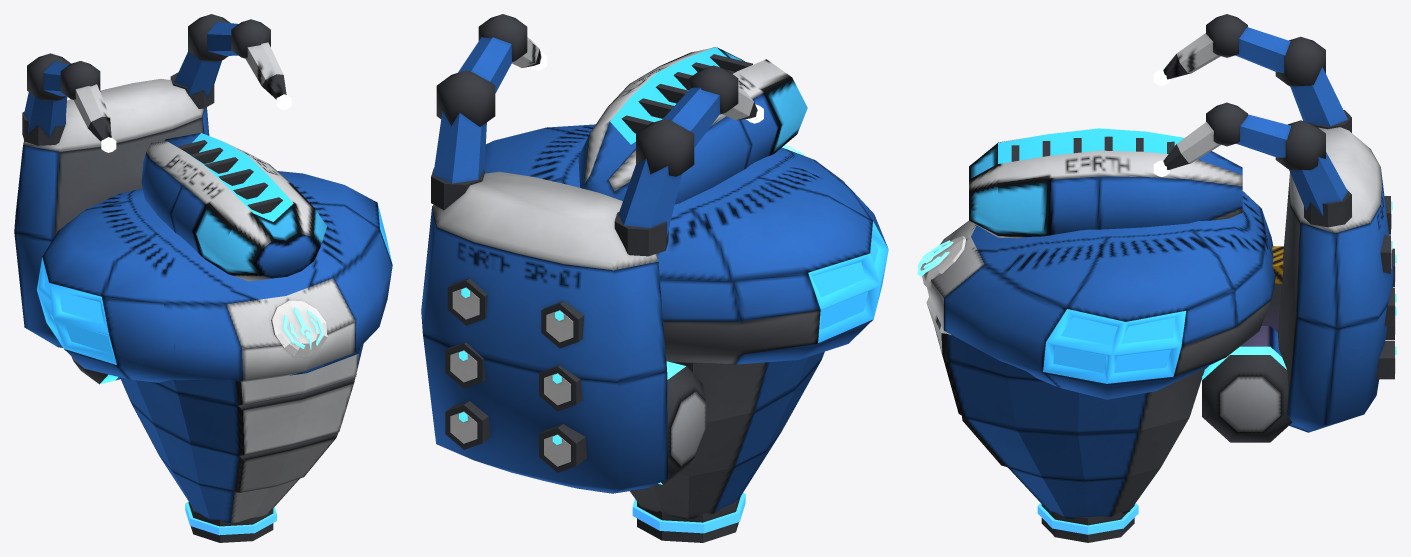
File: SelfRepairTorsoX.glb
3 views of the same model, side by side, from view 1: azimuth 30°, elevation 25°; view 2: azimuth 150°, elevation 25°; view 3: azimuth 270°, elevation 25° (orthographic). The views are drawn at different scales.
Visible parts, largest first — view 1: SelfRepairTorsoX_Body, SelfRepairTorsoX_Head; view 2: SelfRepairTorsoX_Body, SelfRepairTorsoX_Head; view 3: SelfRepairTorsoX_Body, SelfRepairTorsoX_Head.
Part boxes in pixels (x1,y1,x2,y2): SelfRepairTorsoX_Body: [14, 14, 392, 542]; SelfRepairTorsoX_Head: [141, 133, 326, 281]; SelfRepairTorsoX_Body: [421, 14, 888, 542]; SelfRepairTorsoX_Head: [578, 47, 807, 204]; SelfRepairTorsoX_Body: [917, 14, 1396, 542]; SelfRepairTorsoX_Head: [969, 128, 1242, 238].
Bounding box in the file's own units: 10.54 × 13.23 × 12.35.
13 materials, 8 textured.
